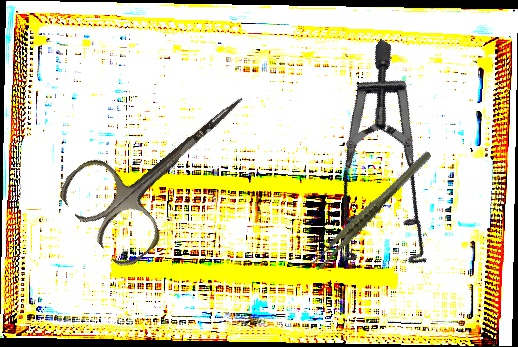Iris Scissors: (52, 58, 280, 273)
Speculum: (269, 38, 515, 297)
Tissue Forceps: (294, 149, 450, 273)
